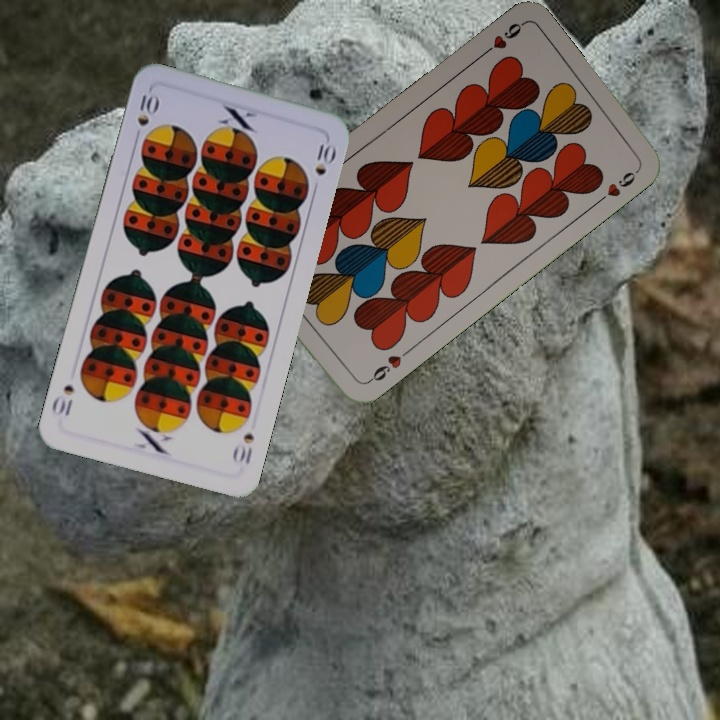H9: (363, 345, 413, 387), (476, 18, 526, 60)
S10: (133, 90, 161, 129), (229, 429, 256, 467)
